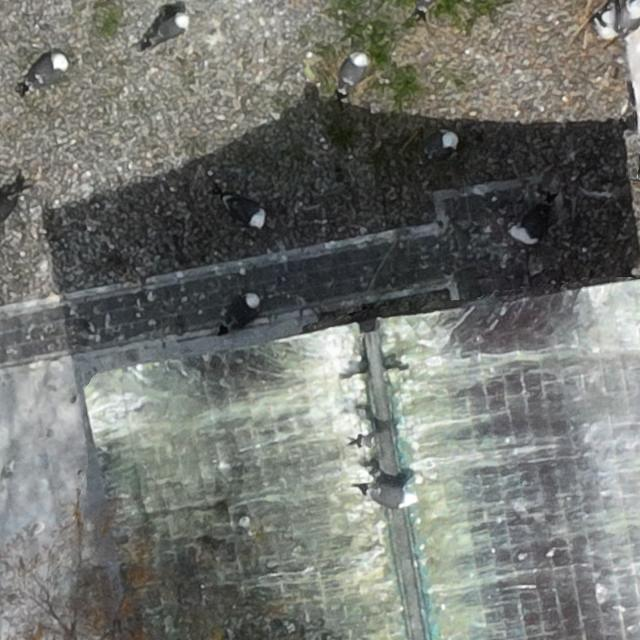umineko: (358, 484, 418, 510), (423, 130, 461, 163), (232, 200, 268, 230), (615, 2, 640, 40), (510, 220, 548, 244), (34, 52, 66, 78), (340, 53, 364, 86), (158, 15, 186, 38), (242, 293, 259, 311)
